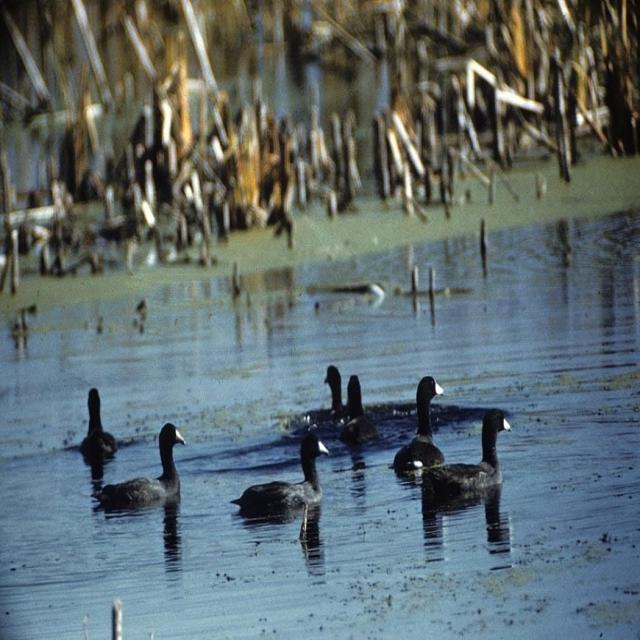bird: (68, 396, 185, 506), (407, 401, 515, 516), (228, 438, 333, 522), (65, 388, 149, 479), (389, 365, 448, 487), (292, 364, 373, 445)
